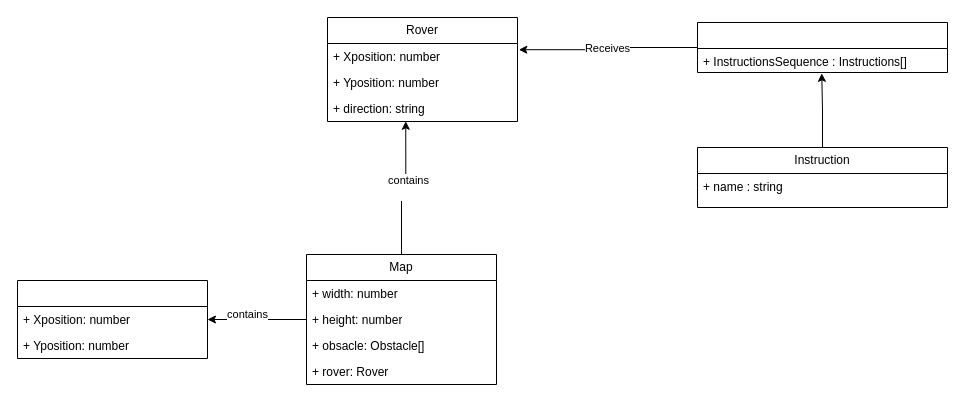
Some shapes in this 965 by 405 pixel diagram are drawn without their labels. Each missing label, with the box of its shape:
Command: (696, 22, 948, 72)
Obstacle: (16, 280, 208, 358)
